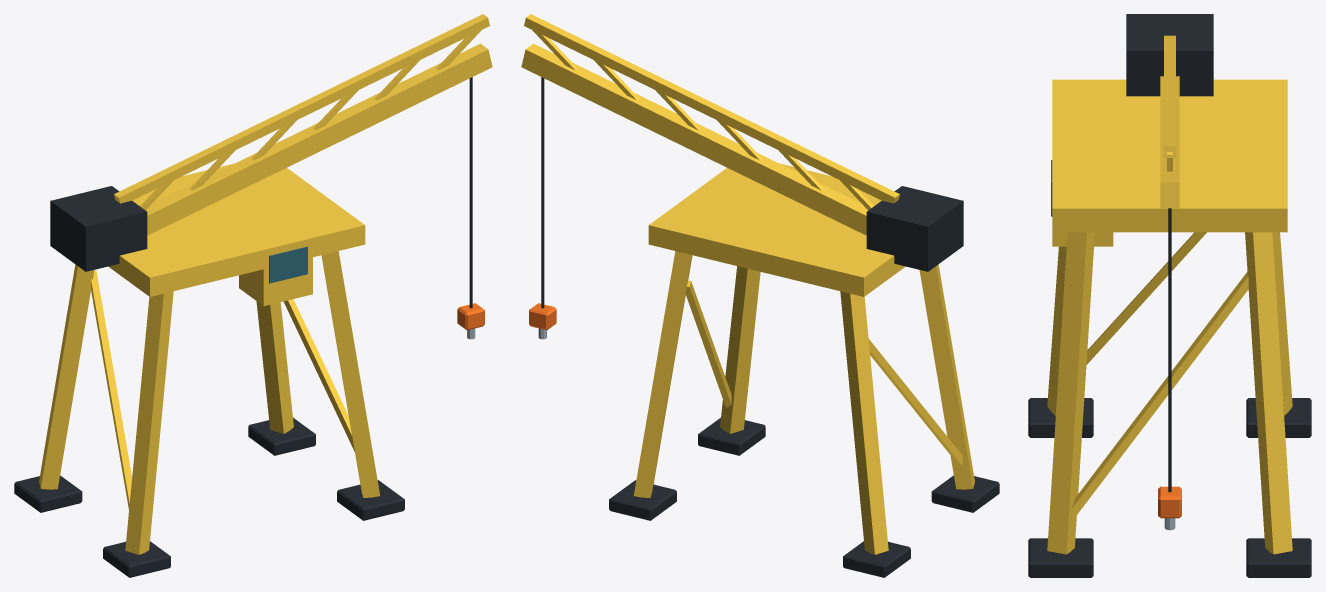
The model's file is dock_crane.glb.
3 renders of one model, left to right at view 1: azimuth 30°, elevation 25°; view 2: azimuth 150°, elevation 25°; view 3: azimuth 270°, elevation 25°, orthographic. The views are drawn at different scales.
Visible parts, largest first — view 1: dock_crane__static, dock_crane__hook_block; view 2: dock_crane__static, dock_crane__hook_block; view 3: dock_crane__static, dock_crane__hook_block.
Boxes of the visible parts, x1=… form: dock_crane__static: x1=14, y1=14, x2=492, y2=577; dock_crane__hook_block: x1=457, y1=303, x2=484, y2=330; dock_crane__static: x1=521, y1=14, x2=999, y2=577; dock_crane__hook_block: x1=529, y1=303, x2=556, y2=330; dock_crane__static: x1=1028, y1=14, x2=1311, y2=577; dock_crane__hook_block: x1=1158, y1=486, x2=1181, y2=518.
Bounding box in the file's own units: 13.67 × 13.04 × 6.5.
